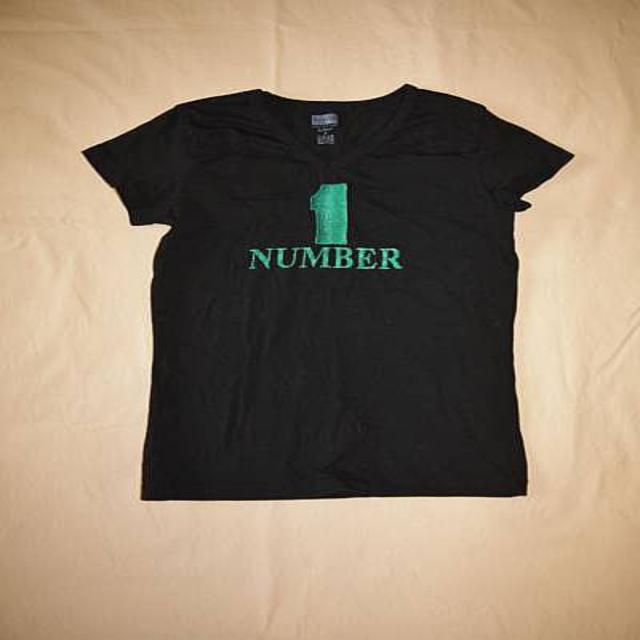T_SHIRT: (64, 73, 592, 516)
